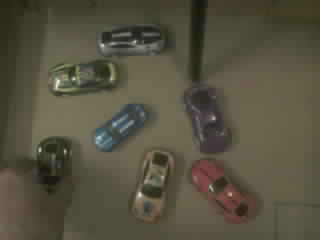Car: (192, 159, 254, 222), (130, 149, 175, 222), (183, 84, 229, 152), (93, 103, 148, 151), (48, 59, 117, 95), (97, 24, 165, 56), (36, 136, 70, 191)
